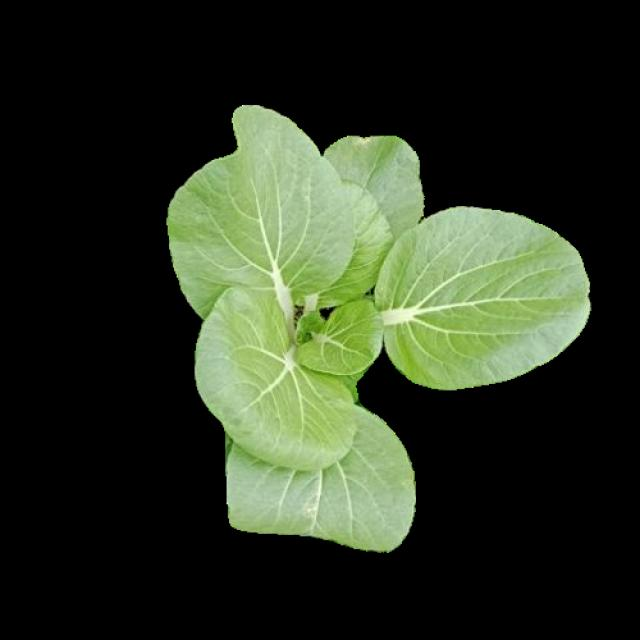healthy: (169, 102, 587, 548)
not-mature: (172, 105, 590, 550)
